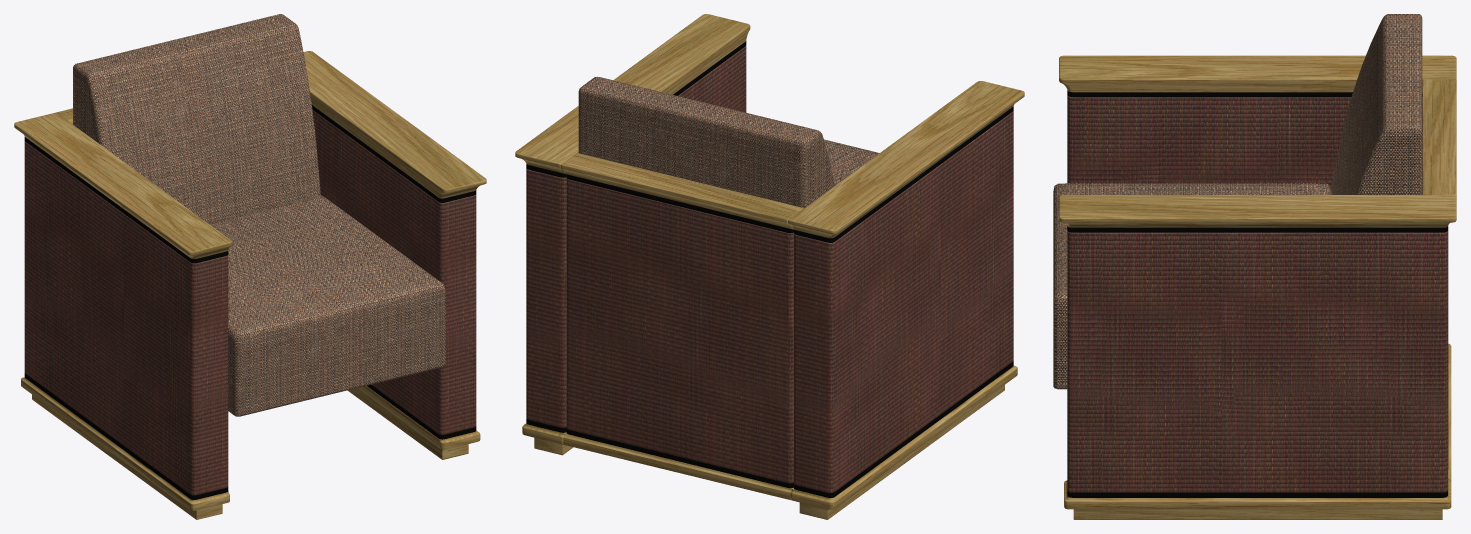
The model's file is Jyosui.gltf.
3 renders of one model, left to right at view 1: azimuth 30°, elevation 25°; view 2: azimuth 150°, elevation 25°; view 3: azimuth 270°, elevation 25°, orthographic. The views are drawn at different scales.
Visible parts, largest first — view 1: ADAL_E8007_1W1_Jyosui_Seat, ADAL_E8007_1W1_Jyosui_Igusa, ADAL_E8007_1W1_Jyosui_Frame, ADAL_E8007_1W1_Jyosui_Heri; view 2: ADAL_E8007_1W1_Jyosui_Igusa, ADAL_E8007_1W1_Jyosui_Frame, ADAL_E8007_1W1_Jyosui_Seat, ADAL_E8007_1W1_Jyosui_Heri; view 3: ADAL_E8007_1W1_Jyosui_Igusa, ADAL_E8007_1W1_Jyosui_Frame, ADAL_E8007_1W1_Jyosui_Seat, ADAL_E8007_1W1_Jyosui_Heri.
Boxes of the visible parts, <box> form: ADAL_E8007_1W1_Jyosui_Seat: <box>73,14,445,416</box>; ADAL_E8007_1W1_Jyosui_Igusa: <box>24,110,476,495</box>; ADAL_E8007_1W1_Jyosui_Frame: <box>14,51,486,519</box>; ADAL_E8007_1W1_Jyosui_Heri: <box>24,105,476,499</box>; ADAL_E8007_1W1_Jyosui_Igusa: <box>526,46,1013,492</box>; ADAL_E8007_1W1_Jyosui_Frame: <box>515,14,1024,519</box>; ADAL_E8007_1W1_Jyosui_Seat: <box>578,76,879,208</box>; ADAL_E8007_1W1_Jyosui_Heri: <box>526,41,1013,497</box>; ADAL_E8007_1W1_Jyosui_Igusa: <box>1067,95,1448,492</box>; ADAL_E8007_1W1_Jyosui_Frame: <box>1059,55,1456,519</box>; ADAL_E8007_1W1_Jyosui_Seat: <box>1053,14,1422,389</box>; ADAL_E8007_1W1_Jyosui_Heri: <box>1067,90,1447,497</box>.
Size of the model in its own units: 0.68 by 0.7301 by 0.71.
Materials: 4 (4 with a texture image).
